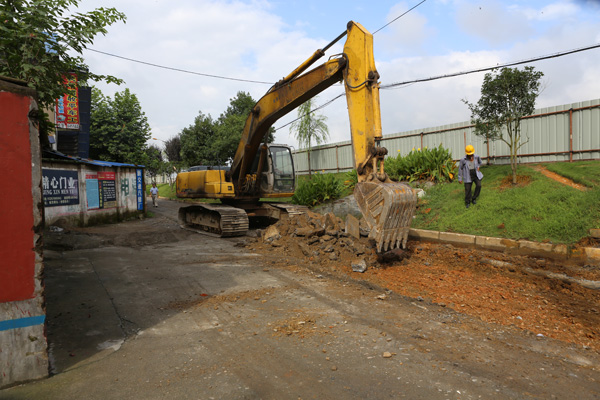excavator: (162, 16, 421, 266)
